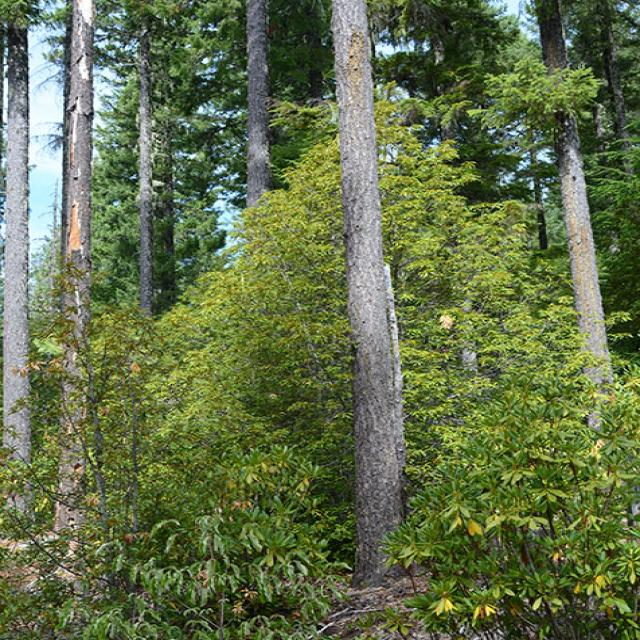Chrysolepis chrysophylla: (163, 102, 563, 555)
